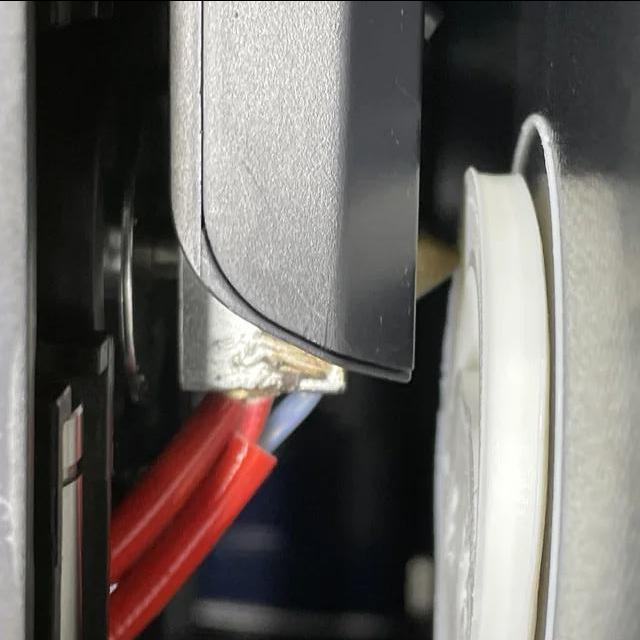Warping: (510, 162, 544, 238)
